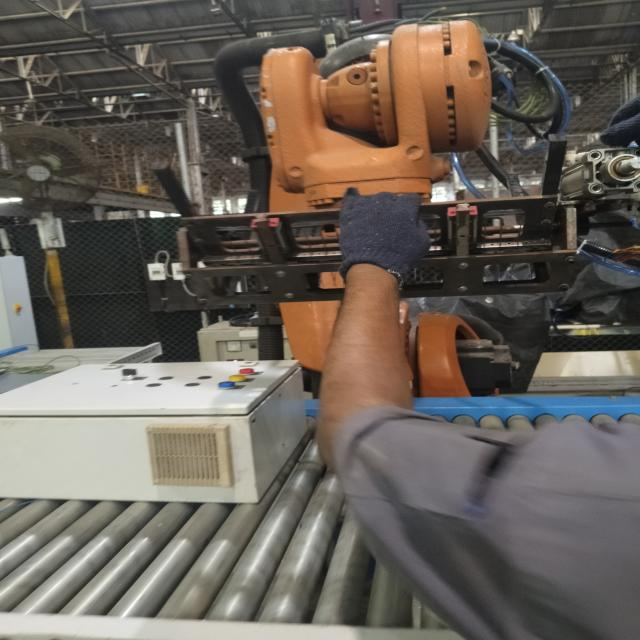Gloves-Detection: (316, 186, 422, 269)
